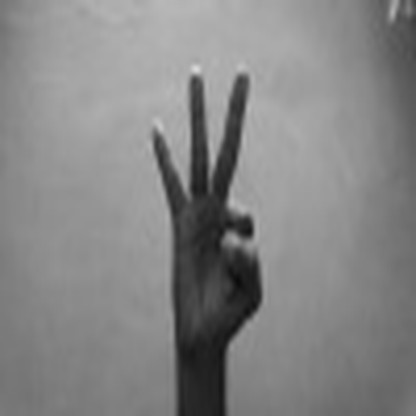f: (127, 61, 289, 340)
